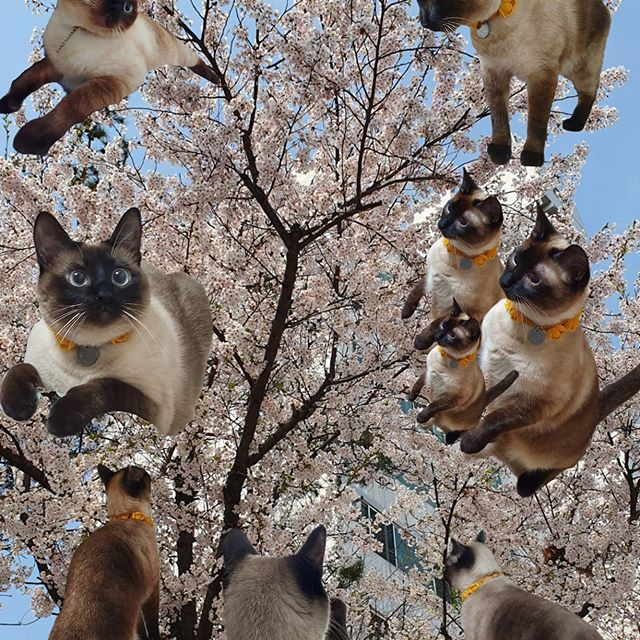cat: (30, 206, 149, 345), (211, 526, 333, 640), (495, 208, 594, 325), (437, 174, 503, 253), (441, 528, 499, 605), (97, 461, 151, 523), (431, 302, 485, 360)
